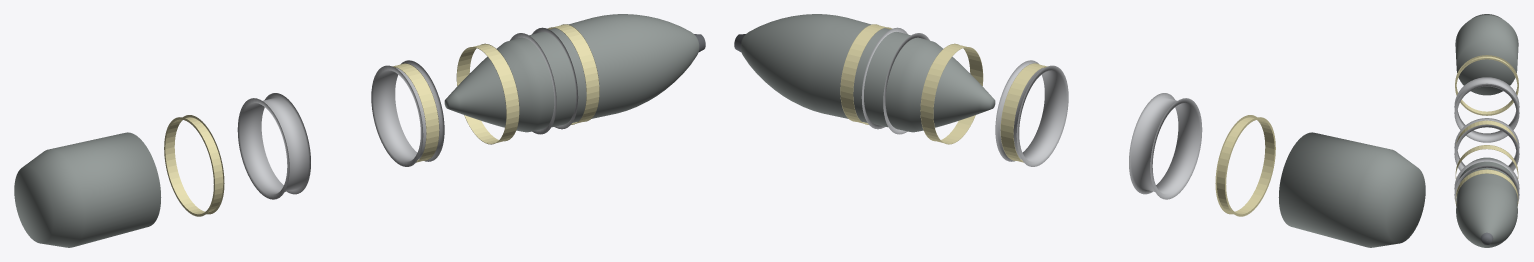
Rendered from RU_SLBM_R29RM_LOD0.fbx.
3 renders of one model, left to right at view 1: azimuth 30°, elevation 25°; view 2: azimuth 150°, elevation 25°; view 3: azimuth 270°, elevation 25°, orthographic. The views are drawn at different scales.
Visible parts, largest first — view 1: WPN_RU_SLBM_R29RM_LOD0_Body, WPN_RU_SLBM_R29RM_LOD0_Tail, WPN_RU_SLBM_R29RM_LOD0_Detail, WPN_RU_SLBM_R29RM_LOD0_Marking; view 2: WPN_RU_SLBM_R29RM_LOD0_Body, WPN_RU_SLBM_R29RM_LOD0_Tail, WPN_RU_SLBM_R29RM_LOD0_Detail, WPN_RU_SLBM_R29RM_LOD0_Marking; view 3: WPN_RU_SLBM_R29RM_LOD0_Body, WPN_RU_SLBM_R29RM_LOD0_Tail, WPN_RU_SLBM_R29RM_LOD0_Detail, WPN_RU_SLBM_R29RM_LOD0_Marking, WPN_RU_SLBM_R29RM_LOD0_Nose.
Boxes of the visible parts, x1,y1,x2,y2 form: WPN_RU_SLBM_R29RM_LOD0_Body: (444, 14, 699, 132); WPN_RU_SLBM_R29RM_LOD0_Tail: (14, 132, 161, 247); WPN_RU_SLBM_R29RM_LOD0_Detail: (237, 27, 578, 199); WPN_RU_SLBM_R29RM_LOD0_Marking: (164, 24, 599, 216); WPN_RU_SLBM_R29RM_LOD0_Body: (740, 14, 995, 132); WPN_RU_SLBM_R29RM_LOD0_Tail: (1278, 132, 1425, 247); WPN_RU_SLBM_R29RM_LOD0_Detail: (861, 27, 1202, 199); WPN_RU_SLBM_R29RM_LOD0_Marking: (840, 24, 1275, 216); WPN_RU_SLBM_R29RM_LOD0_Body: (1456, 157, 1517, 247); WPN_RU_SLBM_R29RM_LOD0_Tail: (1455, 14, 1518, 95); WPN_RU_SLBM_R29RM_LOD0_Detail: (1454, 77, 1519, 202); WPN_RU_SLBM_R29RM_LOD0_Marking: (1455, 55, 1518, 205); WPN_RU_SLBM_R29RM_LOD0_Nose: (1480, 232, 1493, 244).
Size of the model in its own units: 14.8 by 2 by 2.
